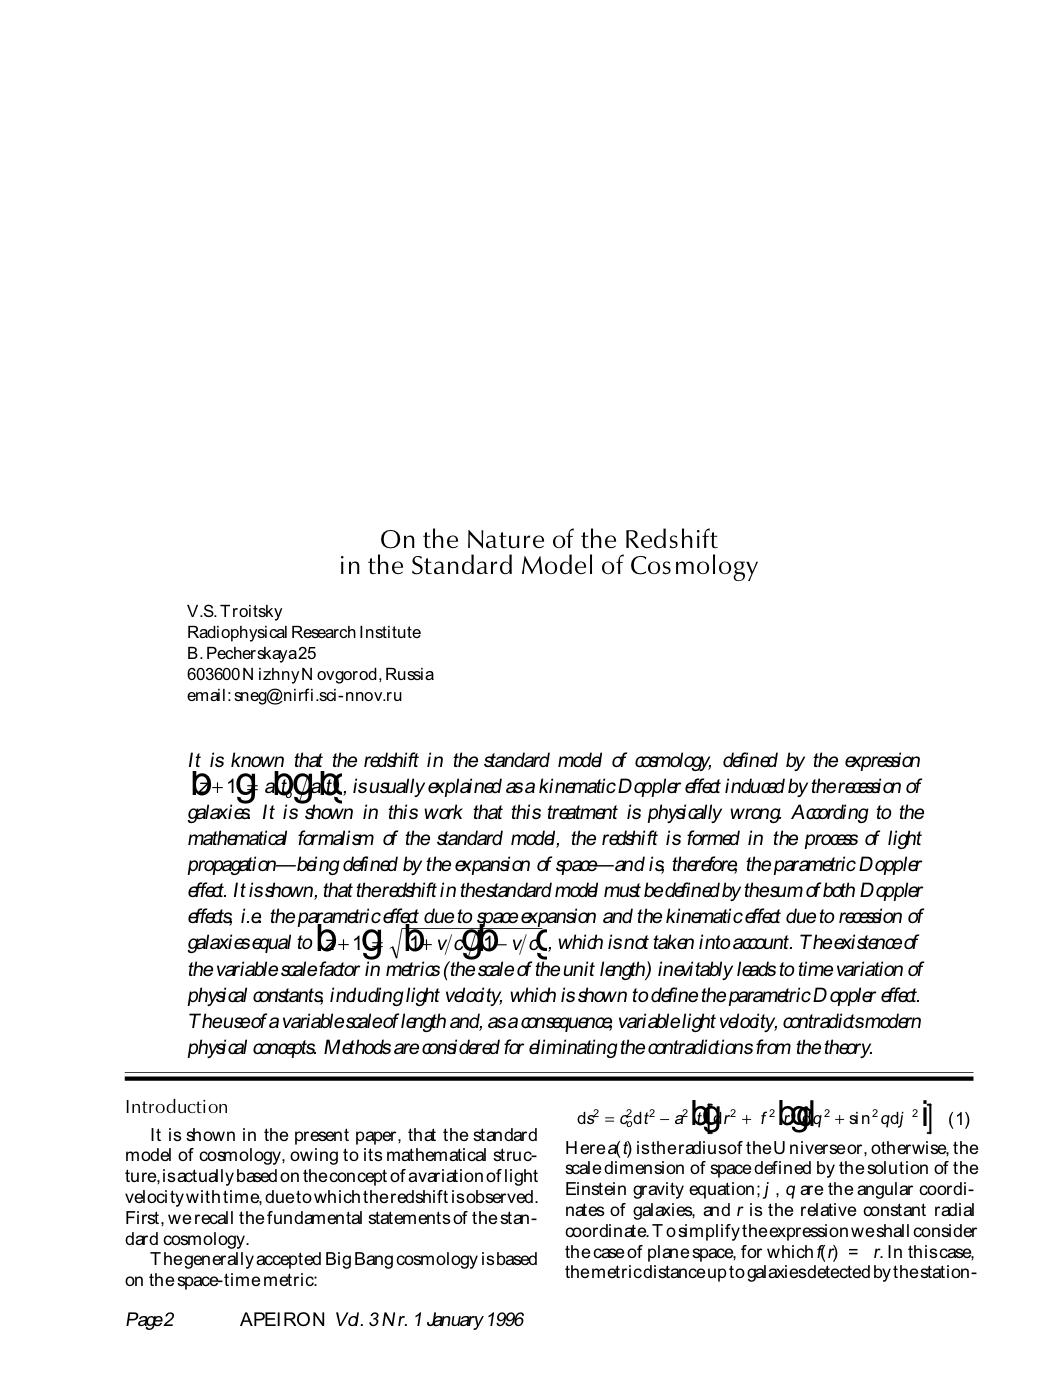figure: (124, 1075, 973, 1081)
formula: (577, 1098, 968, 1135)
